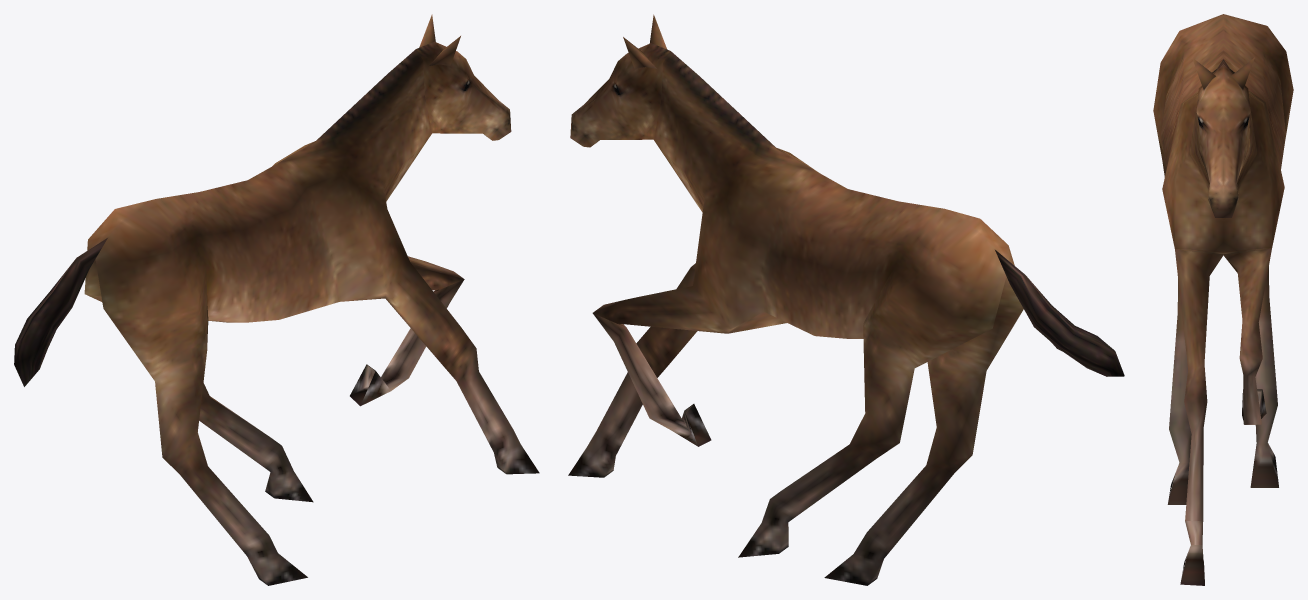
Rendered from wp4ps2.ico.obj.
3 views of the same model, side by side, from view 1: azimuth 30°, elevation 25°; view 2: azimuth 150°, elevation 25°; view 3: azimuth 270°, elevation 25° (orthographic). The views are drawn at different scales.
Size of the model in its own units: 3.61 by 3.3 by 0.7842.
Materials: 1 (1 with a texture image).
